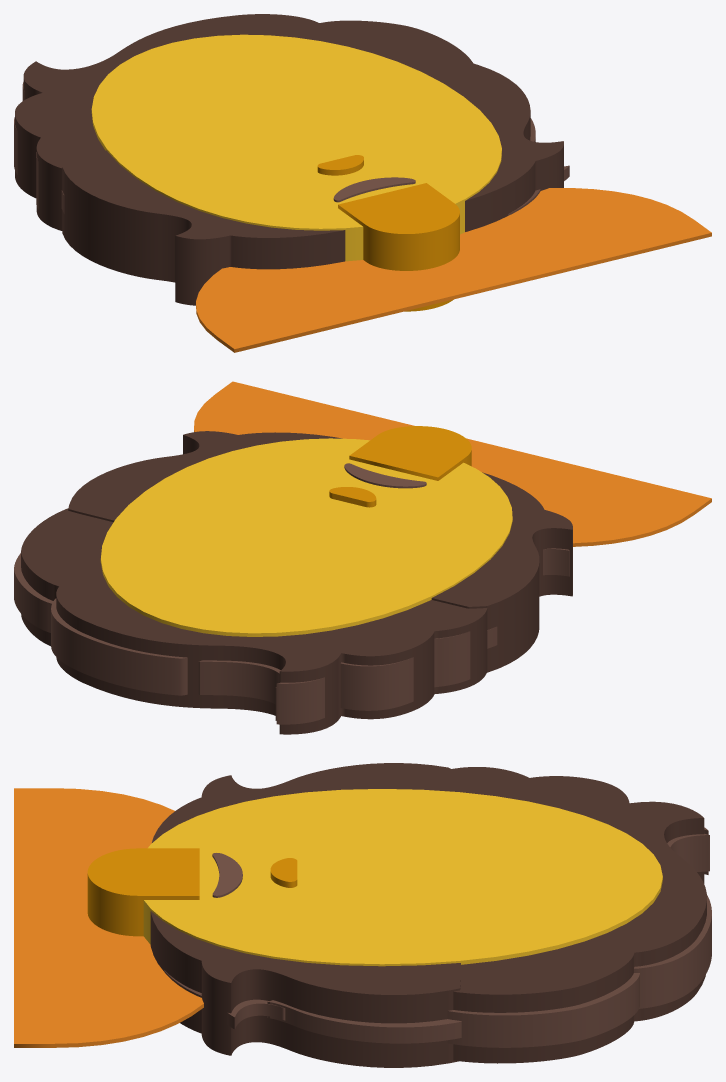
The model's file is emoji_u1f64d.glb.
The picture shows the model from 3 angles, top to bottom: view 1: azimuth 30°, elevation 25°; view 2: azimuth 150°, elevation 25°; view 3: azimuth 270°, elevation 25°; orthographic projection. The views are drawn at different scales.
Parts seen in each view (by area): view 1: emoji_u1f64d; view 2: emoji_u1f64d; view 3: emoji_u1f64d.
Boxes of the visible parts, x1,y1,x2,y2 form: emoji_u1f64d: [14, 14, 711, 352]; emoji_u1f64d: [14, 381, 711, 734]; emoji_u1f64d: [14, 763, 711, 1067].
Bounding box in the file's own units: 0.0271 × 0.0044 × 0.0313.
